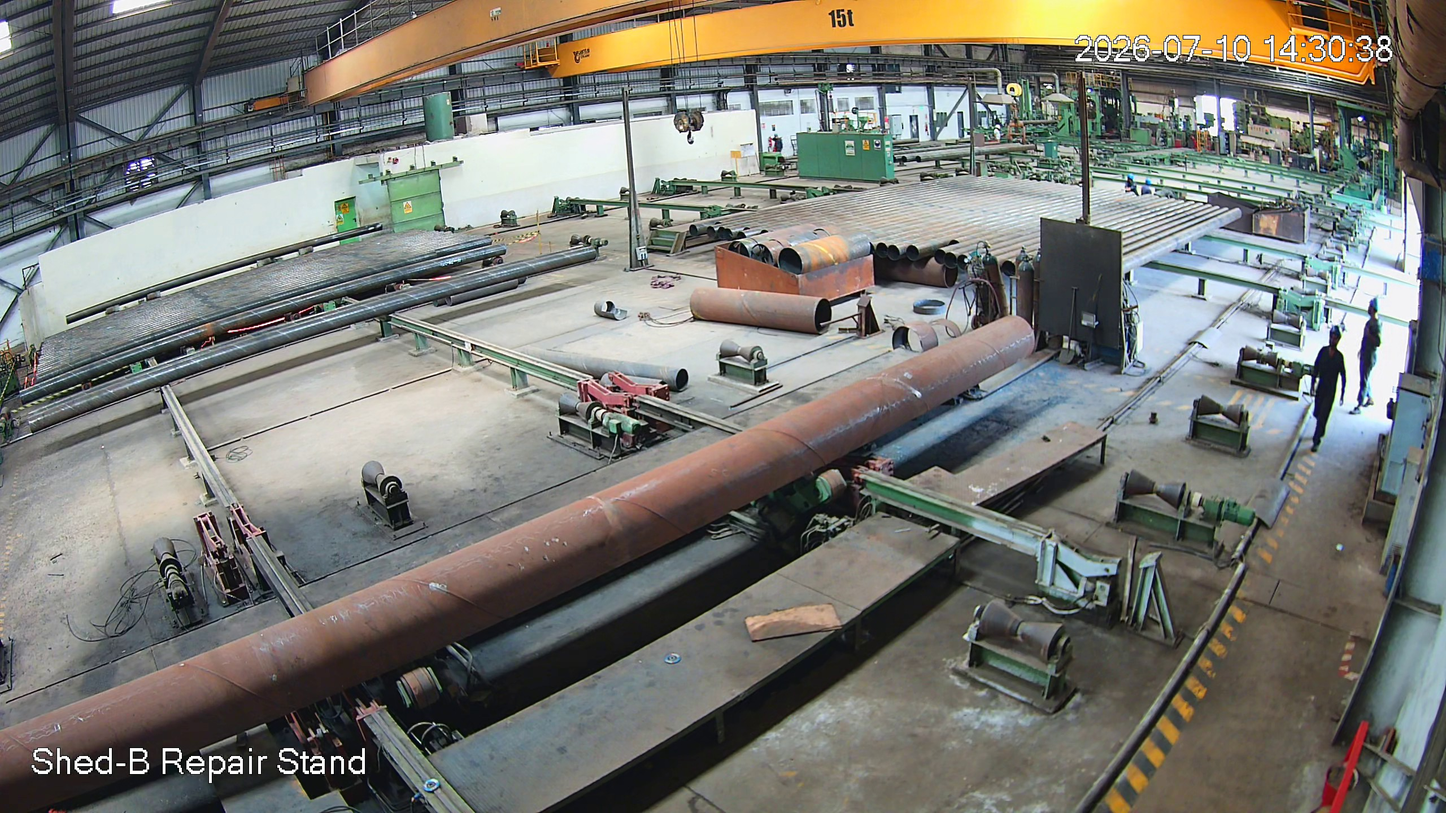Helmet: (1366, 293, 1390, 328), (1324, 321, 1349, 354)
Person: (1307, 322, 1347, 454), (1353, 297, 1385, 414)
